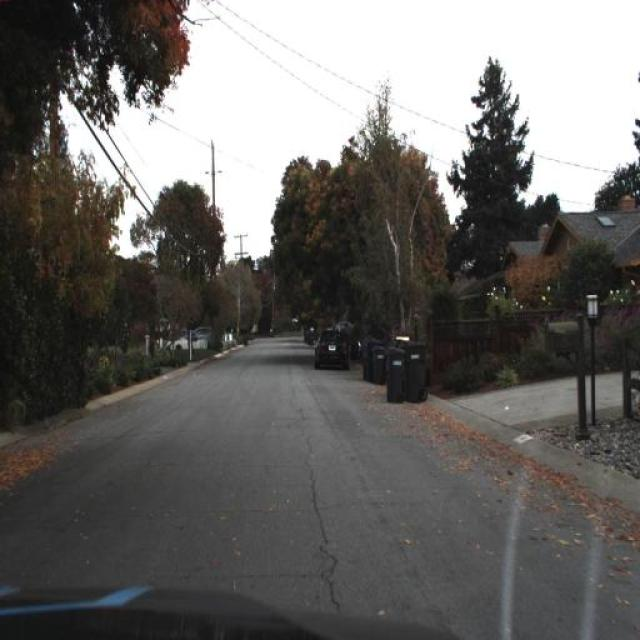car: (312, 328, 350, 376), (314, 330, 348, 366)
trafficLight: (341, 325, 353, 365)
